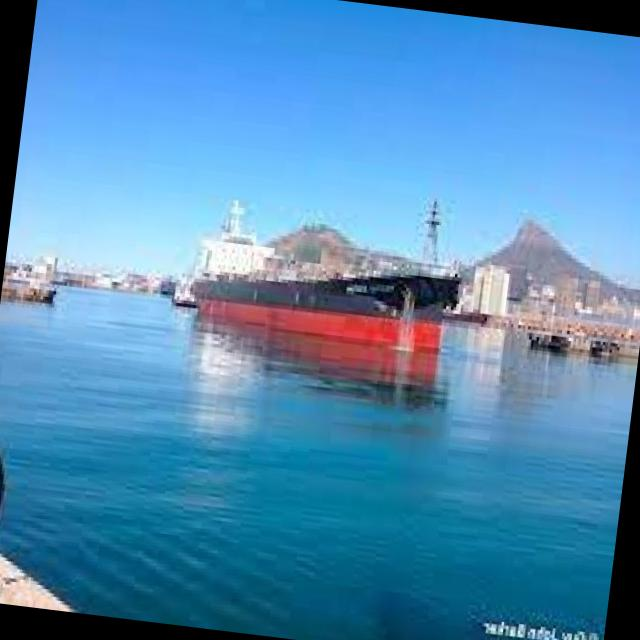Tanker: (175, 200, 463, 349)
